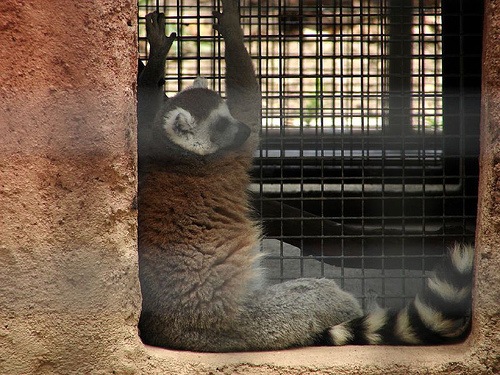cat: (131, 0, 476, 359)
